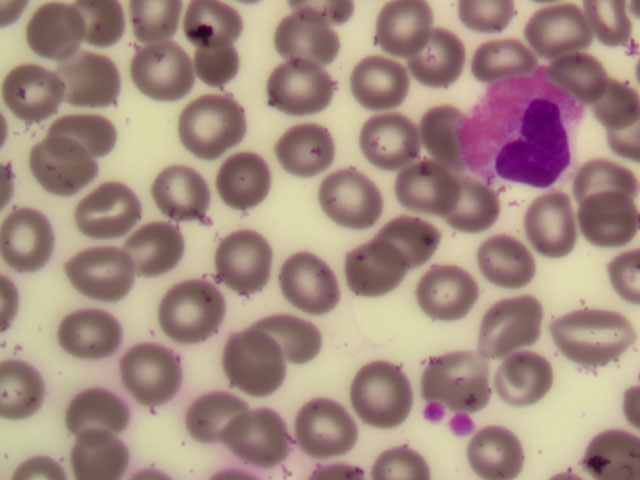Platelets: (451, 413, 472, 433), (422, 402, 444, 420)
RBC: (23, 5, 86, 60), (4, 56, 67, 111), (68, 50, 131, 105), (58, 97, 121, 152), (32, 137, 95, 192), (71, 182, 134, 237), (70, 242, 133, 297), (131, 215, 194, 270), (149, 167, 212, 222), (179, 97, 242, 152), (134, 43, 197, 98), (131, 1, 194, 56), (194, 32, 257, 87), (215, 159, 278, 214), (272, 123, 335, 178), (268, 60, 331, 115), (277, 12, 340, 67), (349, 58, 412, 113), (375, 3, 438, 58), (403, 27, 466, 82), (464, 26, 527, 81), (531, 6, 594, 61), (556, 42, 619, 97), (575, 151, 638, 206), (574, 193, 637, 248), (524, 196, 587, 251), (469, 234, 532, 289), (430, 255, 493, 310), (383, 211, 446, 266), (392, 164, 455, 219), (447, 175, 510, 230), (414, 102, 477, 157), (355, 103, 418, 158), (327, 165, 390, 220), (338, 244, 401, 299), (277, 250, 340, 305), (209, 229, 272, 284), (159, 284, 222, 339), (122, 344, 185, 399), (56, 306, 119, 361), (70, 382, 133, 437), (71, 425, 134, 480), (184, 383, 247, 438), (236, 409, 299, 464), (224, 336, 287, 391), (265, 303, 328, 358), (291, 398, 354, 453), (352, 353, 415, 408), (434, 344, 497, 399), (493, 290, 556, 345), (489, 347, 552, 402), (557, 310, 620, 365), (468, 425, 531, 480), (1, 211, 63, 266), (90, 1, 153, 55), (182, 1, 245, 55)
WBC: (462, 75, 593, 192)
